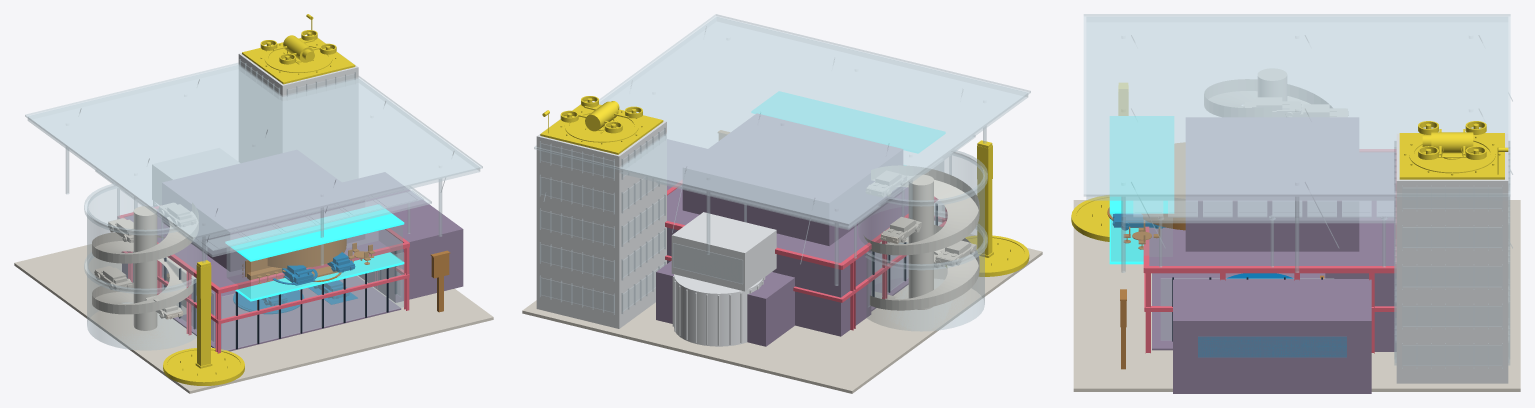
Rendered from hq_14_marketing_l7.glb.
3 renders of one model, left to right at view 1: azimuth 30°, elevation 25°; view 2: azimuth 150°, elevation 25°; view 3: azimuth 270°, elevation 25°, orthographic. The views are drawn at different scales.
Parts seen in each view (by area): view 1: GEO_Marketing_Aerodynamic_Glass_Canopy, GEO_Marketing_Glass_Rotunda_Cylinder, GEO_Marketing_Foundation_Plinth, GEO_Marketing_Auditorium_Shell, GEO_Marketing_Quantum_Tower, GEO_Marketing_Spiral_Display_Ramp, GEO_Marketing_Showroom_Glass_Curtain, GEO_Marketing_Showroom_Brick_Halls, GEO_Marketing_Drone_Helipad, GEO_Marketing_Heritage_Vault_Brick, GEO_Marketing_VIP_Delivery_Cube, GEO_Marketing_LED_Bands (+11 smaller); view 2: GEO_Marketing_Aerodynamic_Glass_Canopy, GEO_Marketing_Quantum_Tower, GEO_Marketing_Auditorium_Shell, GEO_Marketing_Glass_Rotunda_Cylinder, GEO_Marketing_Foundation_Plinth, GEO_Marketing_Showroom_Brick_Halls, GEO_Marketing_Spiral_Display_Ramp, GEO_Marketing_Tower_Curtain_Glass, GEO_Marketing_Drone_Helipad, GEO_Marketing_Configurator_Studio_Shell, GEO_Marketing_HoloCinema_Pod, GEO_Marketing_LED_Bands (+5 smaller); view 3: GEO_Marketing_Aerodynamic_Glass_Canopy, GEO_Marketing_Quantum_Tower, GEO_Marketing_Auditorium_Shell, GEO_Marketing_Heritage_Vault_Brick, GEO_Marketing_Foundation_Plinth, GEO_Marketing_Showroom_Brick_Halls, GEO_Marketing_Tower_Curtain_Glass, GEO_Marketing_Photovoltaic_Solar_Canopy, GEO_Marketing_LED_Bands, GEO_Marketing_Drone_Helipad, GEO_Marketing_Spiral_Display_Ramp, GEO_Marketing_Structural_Columns (+7 smaller).
Boxes of the visible parts, bbox=[...] form: GEO_Marketing_Aerodynamic_Glass_Canopy: bbox=[25, 63, 482, 265]; GEO_Marketing_Glass_Rotunda_Cylinder: bbox=[84, 183, 203, 350]; GEO_Marketing_Foundation_Plinth: bbox=[14, 244, 493, 393]; GEO_Marketing_Auditorium_Shell: bbox=[162, 150, 365, 271]; GEO_Marketing_Quantum_Tower: bbox=[238, 38, 358, 181]; GEO_Marketing_Spiral_Display_Ramp: bbox=[92, 203, 198, 330]; GEO_Marketing_Showroom_Glass_Curtain: bbox=[162, 250, 404, 351]; GEO_Marketing_Showroom_Brick_Halls: bbox=[122, 206, 402, 351]; GEO_Marketing_Drone_Helipad: bbox=[163, 14, 355, 385]; GEO_Marketing_Heritage_Vault_Brick: bbox=[343, 172, 463, 302]; GEO_Marketing_VIP_Delivery_Cube: bbox=[226, 225, 402, 298]; GEO_Marketing_LED_Bands: bbox=[225, 204, 404, 301]; GEO_Marketing_Aerodynamic_Glass_Canopy: bbox=[534, 14, 1030, 285]; GEO_Marketing_Quantum_Tower: bbox=[536, 104, 666, 328]; GEO_Marketing_Auditorium_Shell: bbox=[682, 114, 902, 245]; GEO_Marketing_Glass_Rotunda_Cylinder: bbox=[858, 150, 987, 331]; GEO_Marketing_Foundation_Plinth: bbox=[522, 234, 1042, 393]; GEO_Marketing_Showroom_Brick_Halls: bbox=[656, 185, 908, 346]; GEO_Marketing_Spiral_Display_Ramp: bbox=[863, 165, 979, 310]; GEO_Marketing_Tower_Curtain_Glass: bbox=[539, 127, 665, 314]; GEO_Marketing_Drone_Helipad: bbox=[540, 96, 1029, 276]; GEO_Marketing_Configurator_Studio_Shell: bbox=[671, 212, 776, 291]; GEO_Marketing_HoloCinema_Pod: bbox=[672, 274, 765, 346]; GEO_Marketing_LED_Bands: bbox=[751, 91, 945, 153]; GEO_Marketing_Aerodynamic_Glass_Canopy: bbox=[1083, 14, 1512, 272]; GEO_Marketing_Quantum_Tower: bbox=[1396, 133, 1508, 383]; GEO_Marketing_Auditorium_Shell: bbox=[1185, 117, 1359, 251]; GEO_Marketing_Heritage_Vault_Brick: bbox=[1173, 279, 1371, 393]; GEO_Marketing_Foundation_Plinth: bbox=[1073, 200, 1520, 391]; GEO_Marketing_Showroom_Brick_Halls: bbox=[1149, 152, 1396, 351]; GEO_Marketing_Tower_Curtain_Glass: bbox=[1394, 140, 1510, 368]; GEO_Marketing_Photovoltaic_Solar_Canopy: bbox=[1123, 197, 1394, 267]; GEO_Marketing_LED_Bands: bbox=[1109, 116, 1173, 264]; GEO_Marketing_Drone_Helipad: bbox=[1071, 83, 1508, 241]; GEO_Marketing_Spiral_Display_Ramp: bbox=[1204, 68, 1348, 116]; GEO_Marketing_Structural_Columns: bbox=[1143, 149, 1396, 353].
Size of what is drawn, in the model's own units: 39.4 by 20.9 by 36.2.
